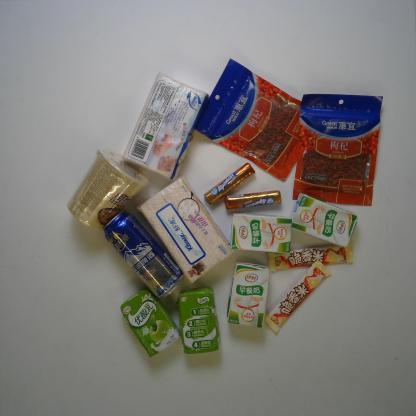Alcohol: (100, 209, 183, 299)
Candy: (203, 163, 256, 205), (223, 188, 285, 214)
Chocolate: (260, 261, 332, 336), (267, 241, 352, 269)
Dried Fruit: (192, 58, 324, 181), (294, 93, 384, 208)
Instant Noodles: (66, 150, 148, 235)
Milk: (118, 288, 182, 362), (288, 191, 361, 250), (224, 258, 273, 332), (175, 284, 221, 355), (230, 213, 291, 256)
Tissue: (135, 174, 236, 286), (122, 73, 210, 181)
